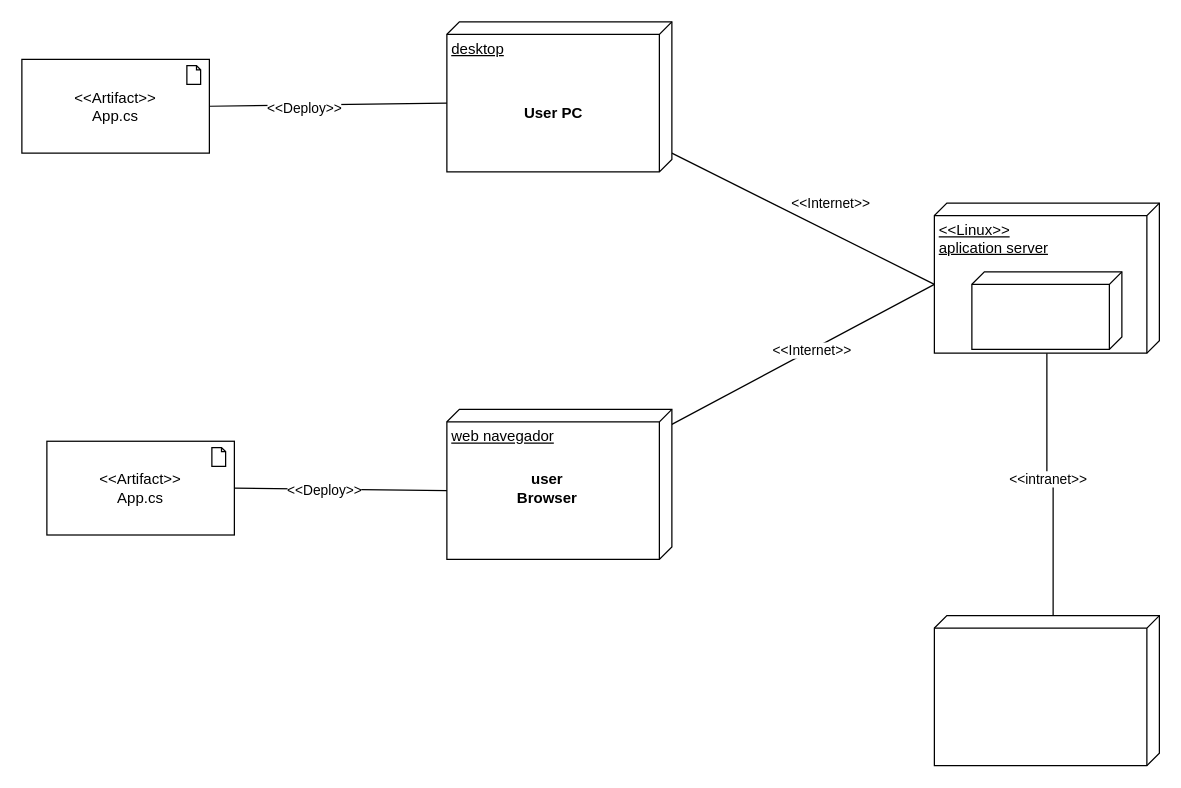
This 1181x788 diagram has some shape labels left out. Each missing label, with the centre of its shape:
"<<Linux>> database server" goes at point 1046,690.
"maquina virtual c#" goes at point 1046,310.
